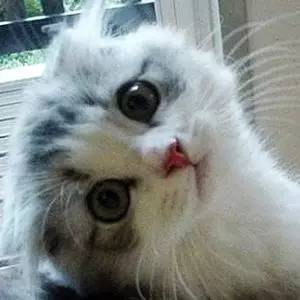cat: (34, 18, 254, 294)
